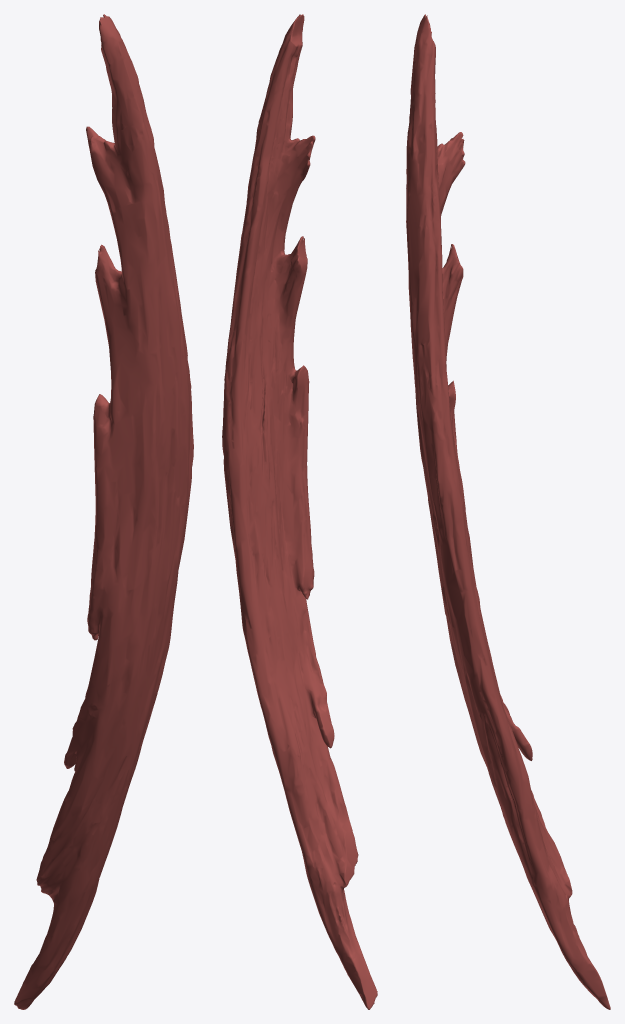
The model's file is FMA46286.glb.
3 views of the same model, side by side, from view 1: azimuth 30°, elevation 25°; view 2: azimuth 210°, elevation 25°; view 3: azimuth 270°, elevation 25° (orthographic). The views are drawn at different scales.
Visible parts, largest first — view 1: FMA46286; view 2: FMA46286; view 3: FMA46286.
Boxes of the visible parts, box(x1,y1,x2,y2) form: FMA46286: box(14, 14, 193, 1009); FMA46286: box(222, 14, 377, 1009); FMA46286: box(406, 14, 610, 1009).
Size of the model in its own units: 0.0132 by 0.1285 by 0.0242.
